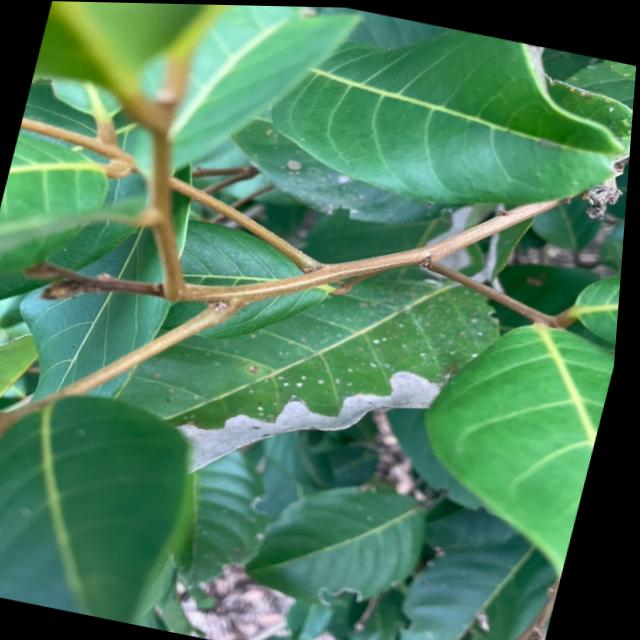Algal Leaf Spot: (207, 281, 507, 513)
